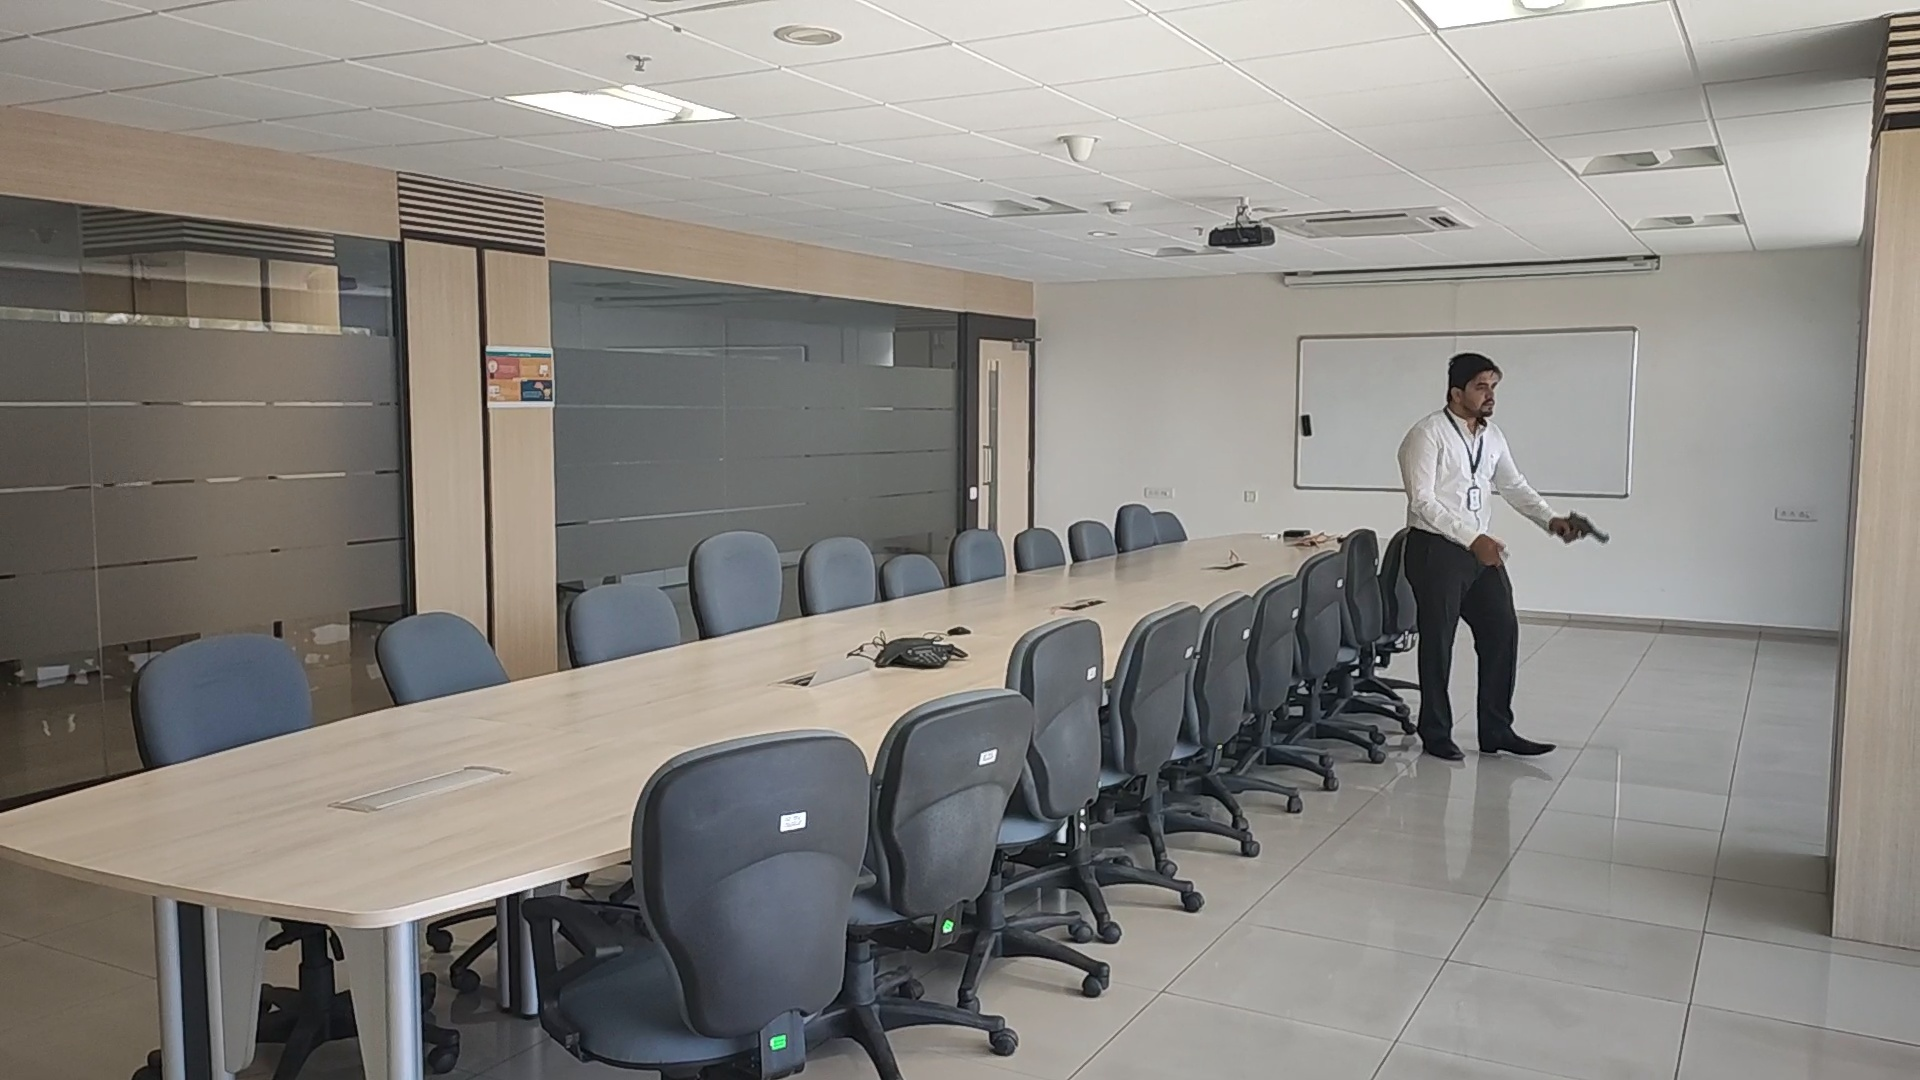gun: (1569, 509, 1611, 546)
